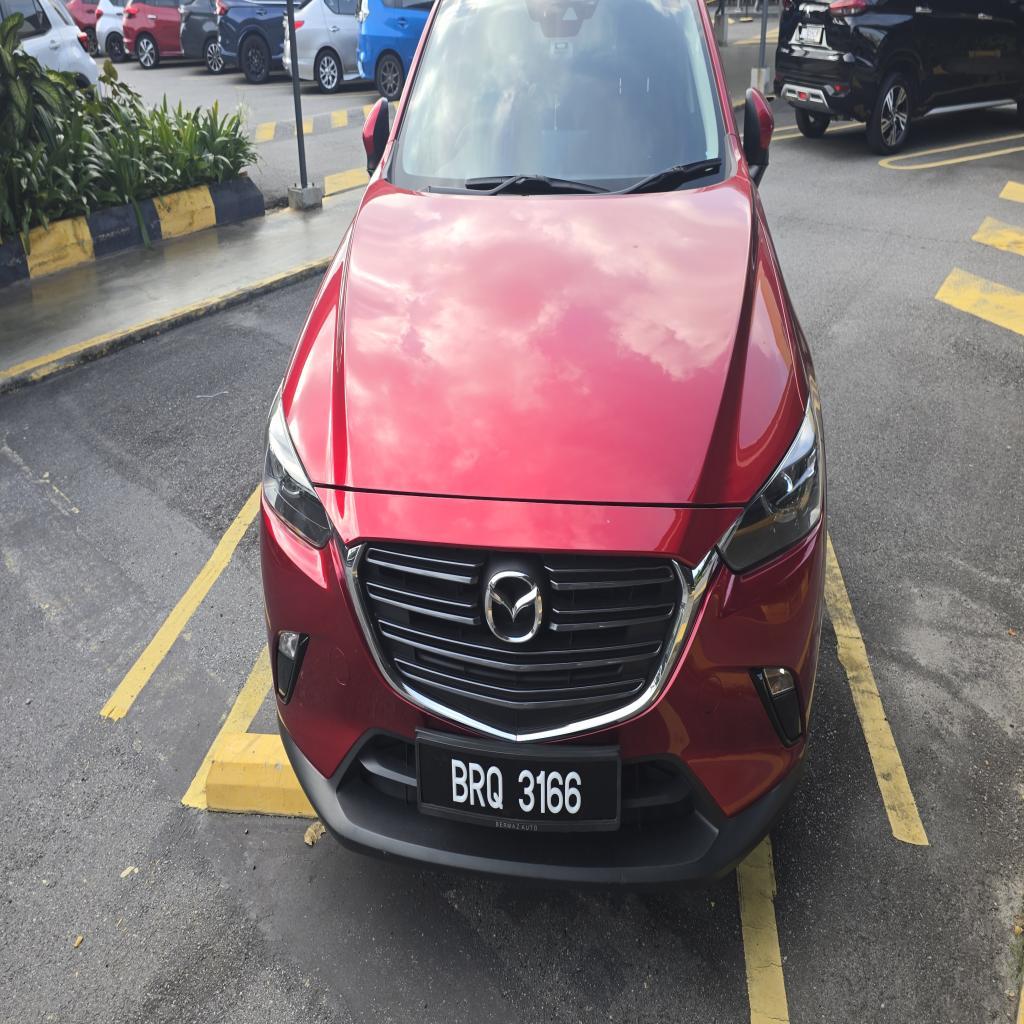car: (261, 0, 826, 886)
car plate: (416, 731, 620, 830)
